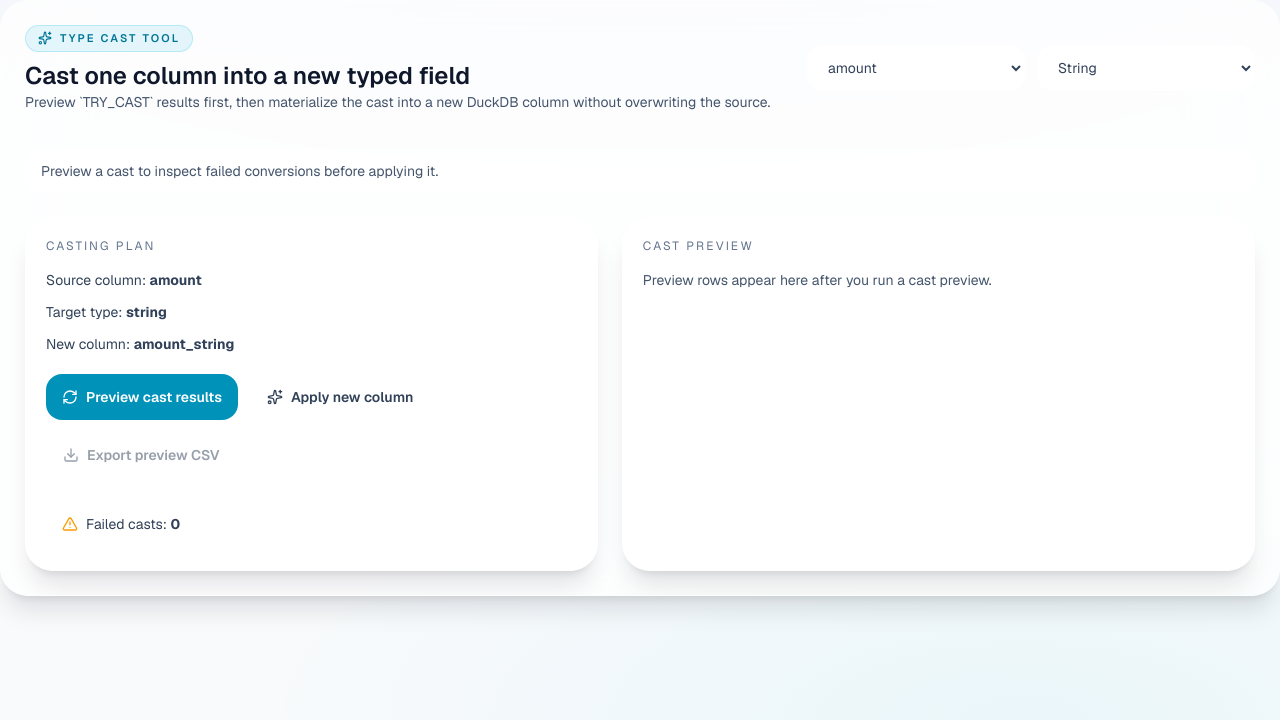
it: TypeCastTool › applies the cast into a new DuckDB column
Select "Number" in the dropdown named "target type" at (1146, 68), box [1037,45,1255,91]
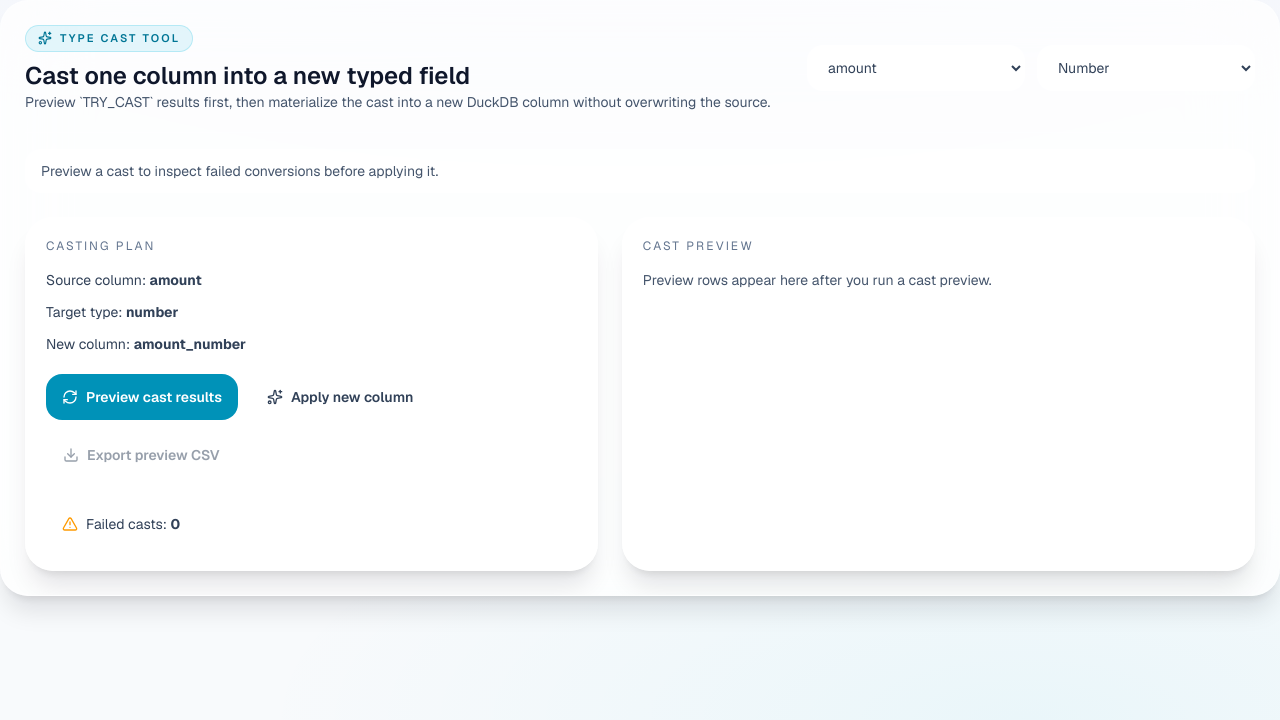
Click the button "Apply new column".
click(340, 396)  # box [250,374,430,420]
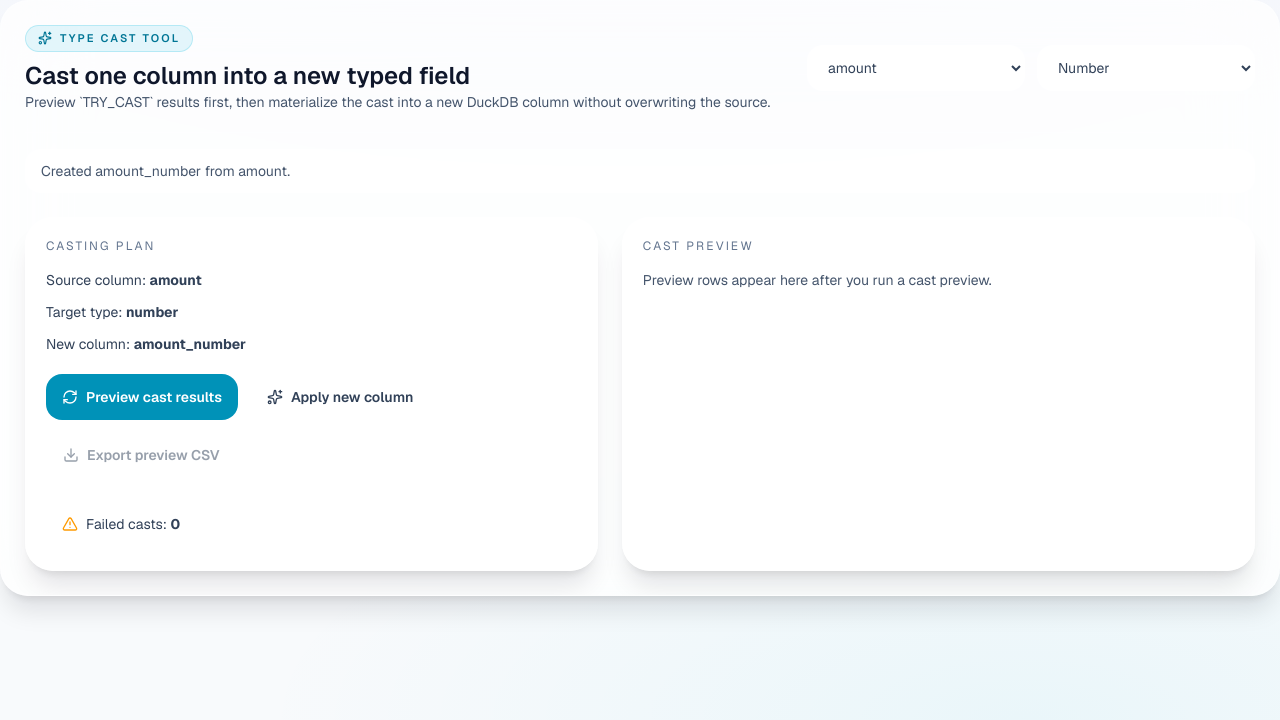
Now the text "Created amount_number from amount." is shown, box [25,148,1255,192]
